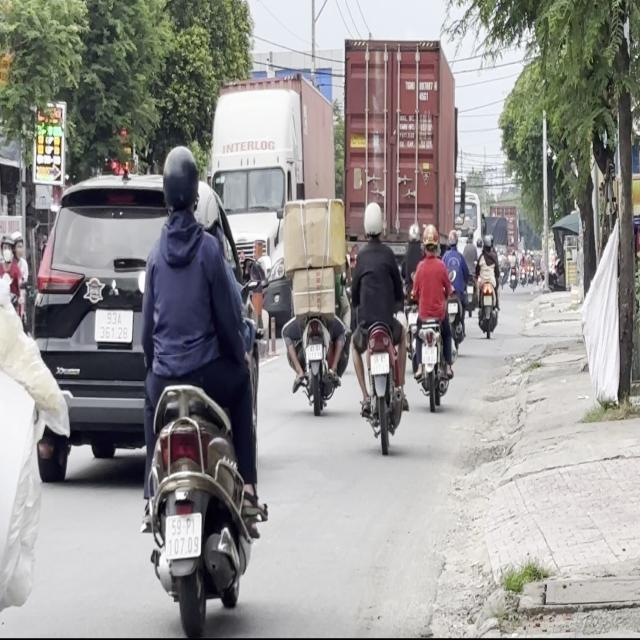helmet: (159, 144, 200, 225), (362, 200, 383, 239), (421, 222, 438, 255)
licenseplate: (133, 141, 270, 633), (280, 170, 348, 413), (348, 198, 409, 451), (409, 223, 454, 409)
nohelmet: (166, 512, 201, 558), (370, 352, 389, 375), (422, 345, 436, 363), (306, 344, 322, 359)
